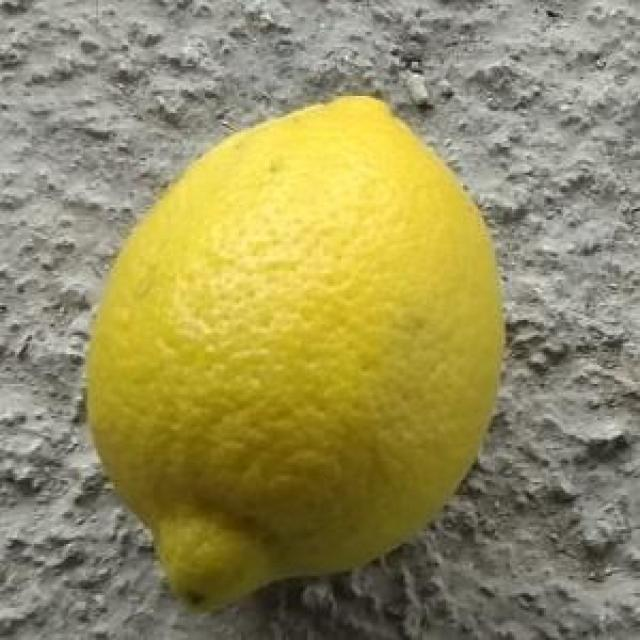lemon: (78, 98, 506, 608)
